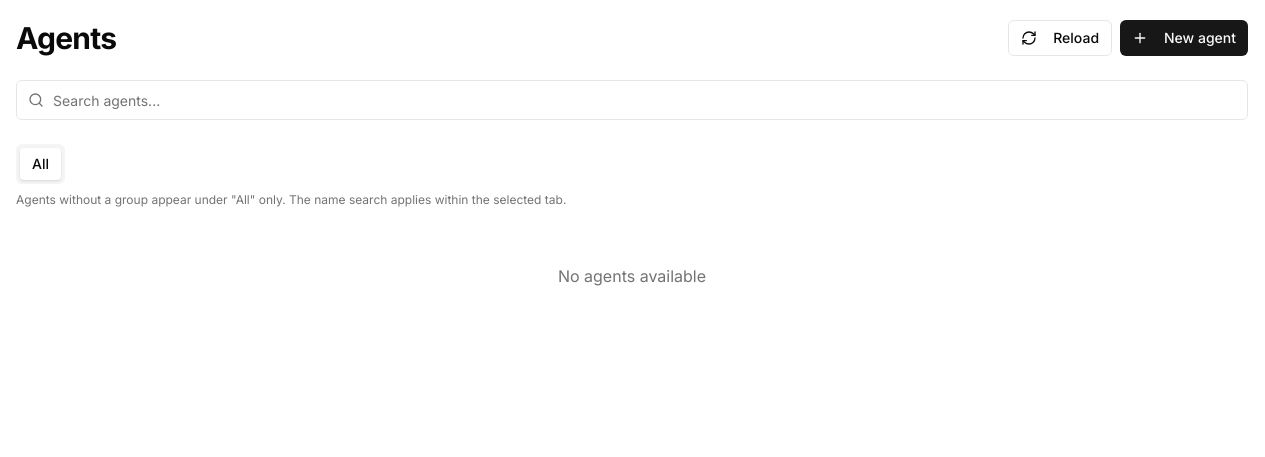
Test: AgentsPage reload result › summarizes added, updated and removed agents
Click the button "Reload": point(1060, 38) [1008,20,1112,56]
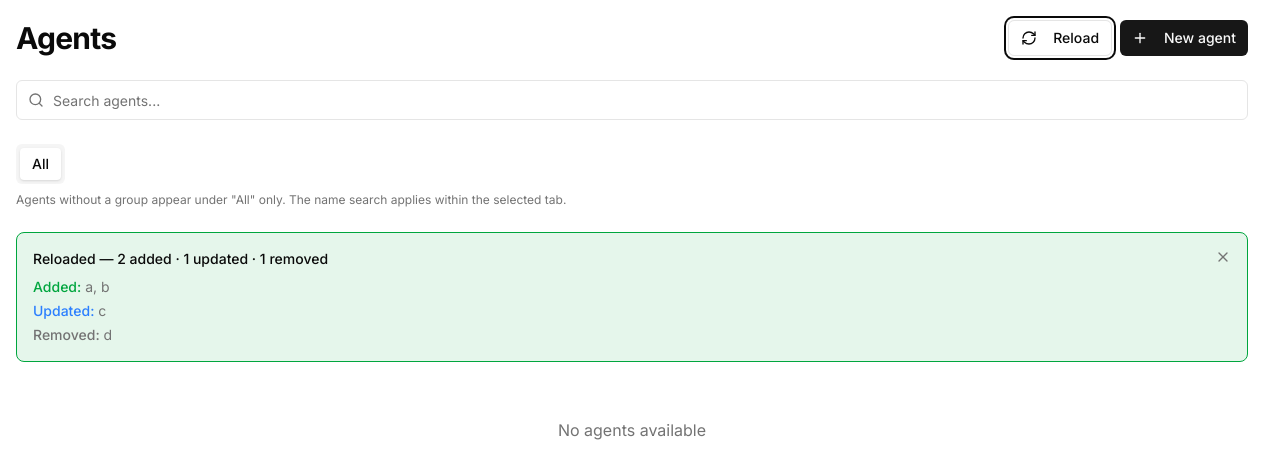
Expected: the text "Reloaded — 2 added · 1 updated · 1 removed" is shown, [33,249,328,269]
Expected: the element showing "Added: a, b" is shown, [33,278,110,295]
Expected: the element showing "Updated: c" is shown, [33,302,106,319]
